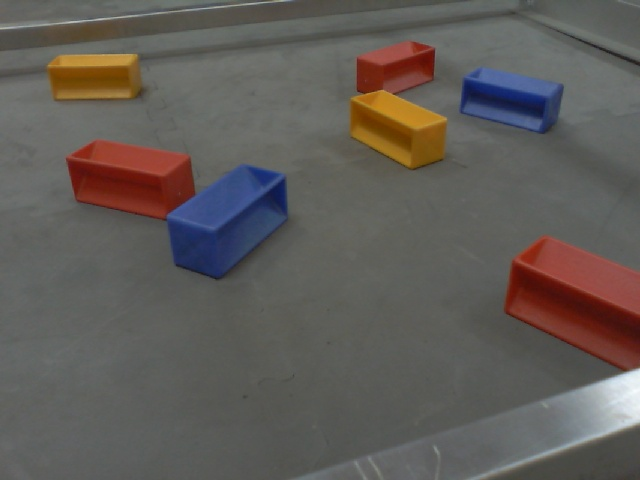BlueSample: (162, 159, 293, 283), (453, 64, 566, 136)
RedSample: (497, 232, 640, 377), (61, 135, 200, 222), (355, 35, 436, 98)
YellowSample: (348, 88, 447, 174), (43, 49, 145, 103)
